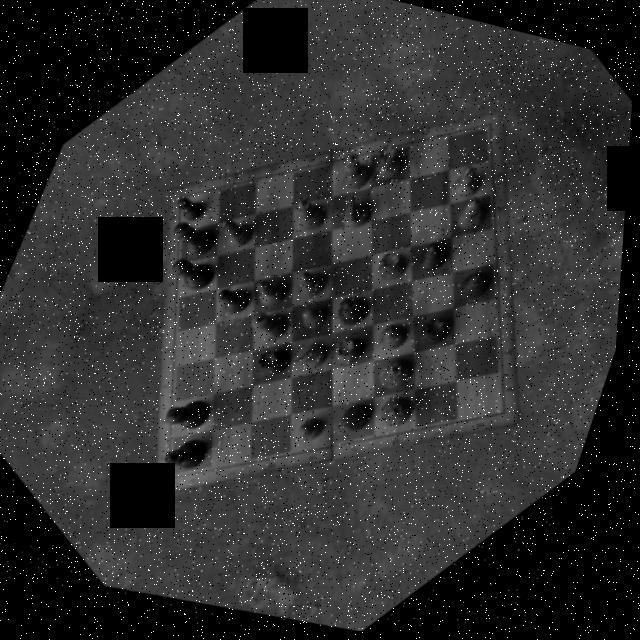chess-table-corners: (468, 386, 530, 449), (144, 450, 198, 499), (452, 110, 502, 160), (159, 180, 206, 227)
